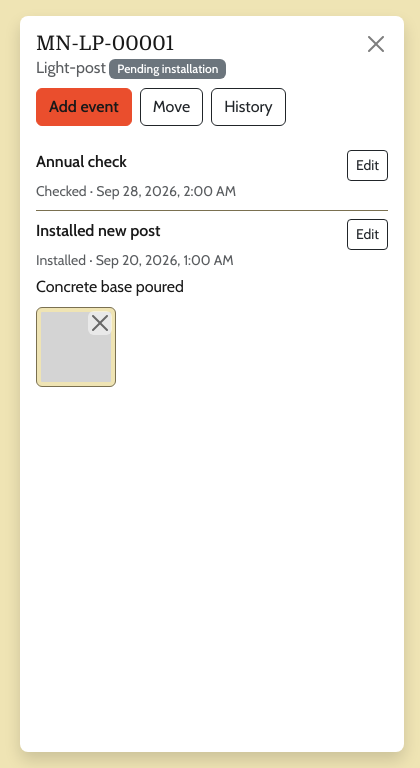
Test case: removes a photo from an event
Click the button named "Remove photo 1 of 1 from Installed new post" at (100, 323), box 88,311 -> 112,335
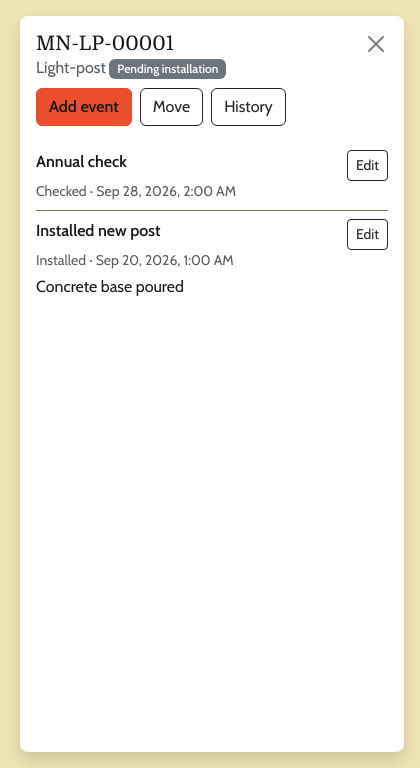
Result: the picture is gone
